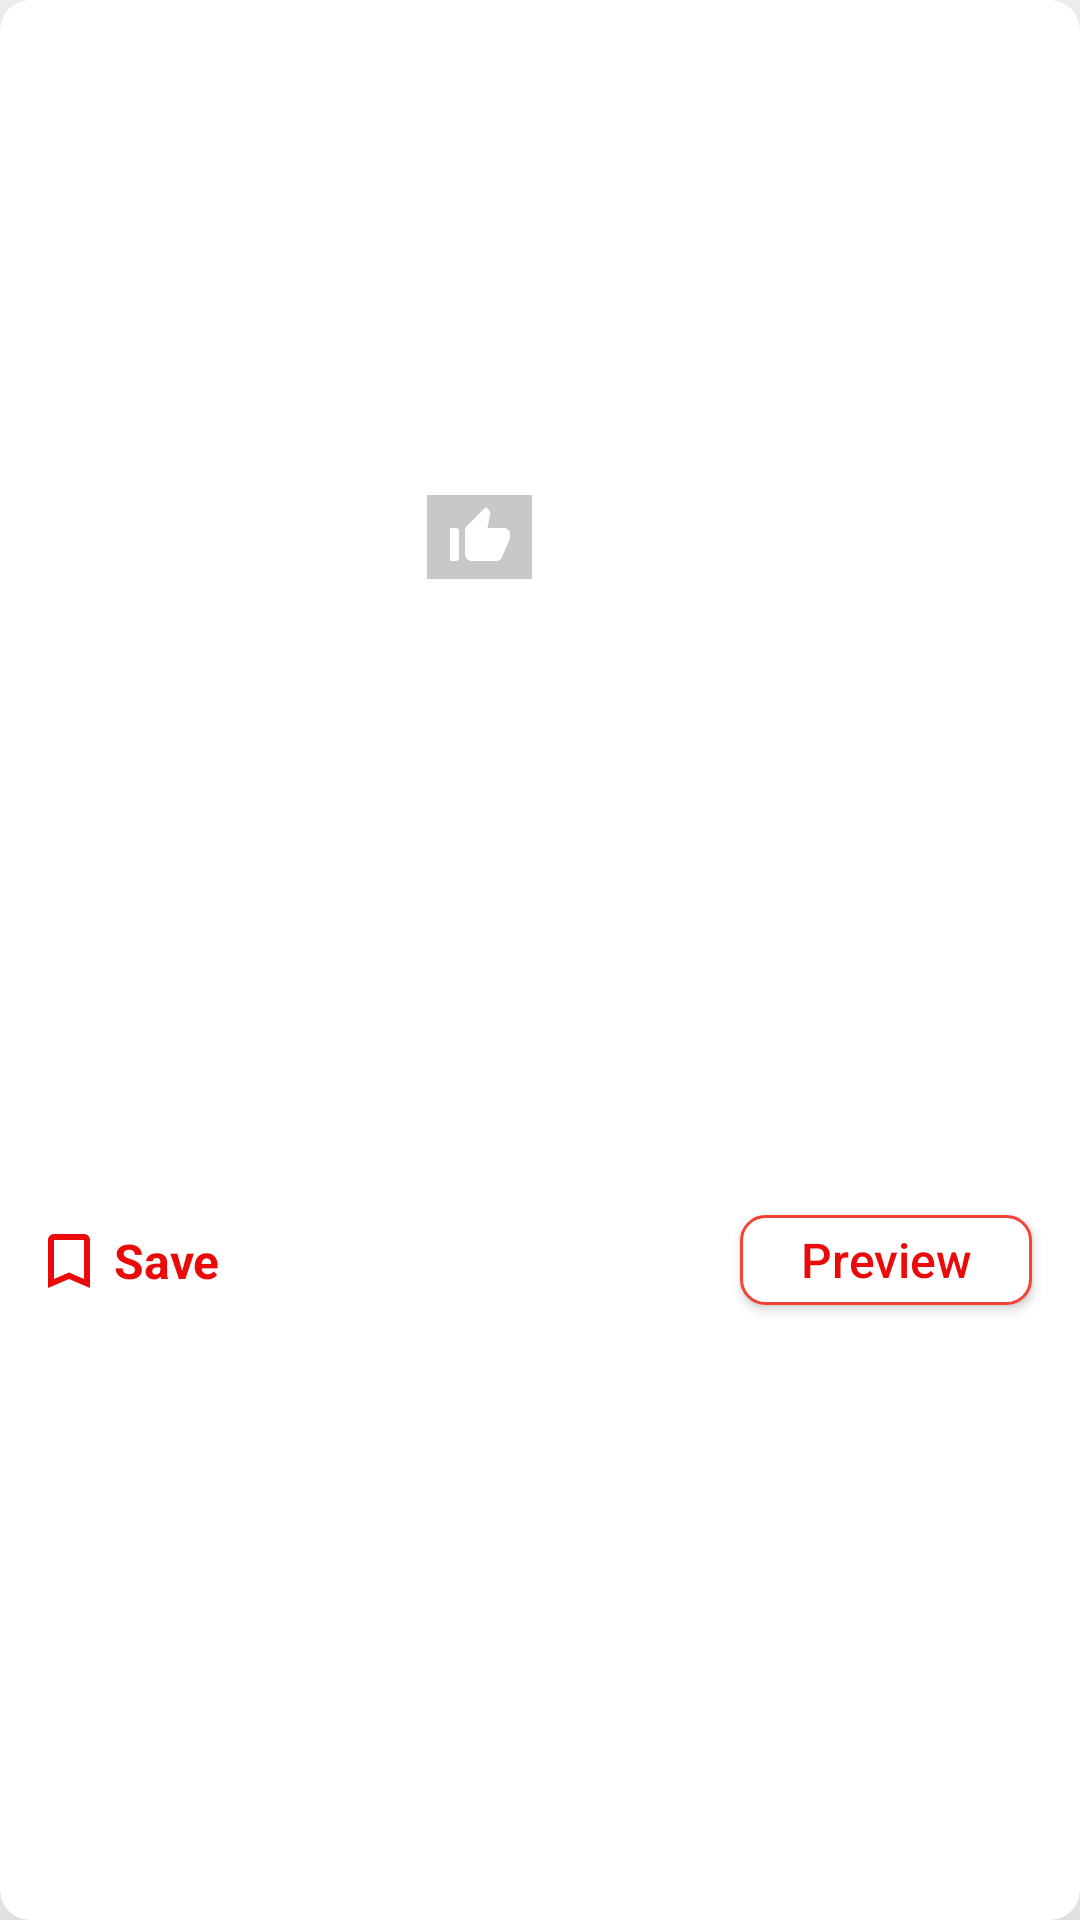

Icons on this 1080px x 1920px Android screen, each with its box as (x1, y1, x2, y2):
bookmark border: (48, 1234, 90, 1288)
